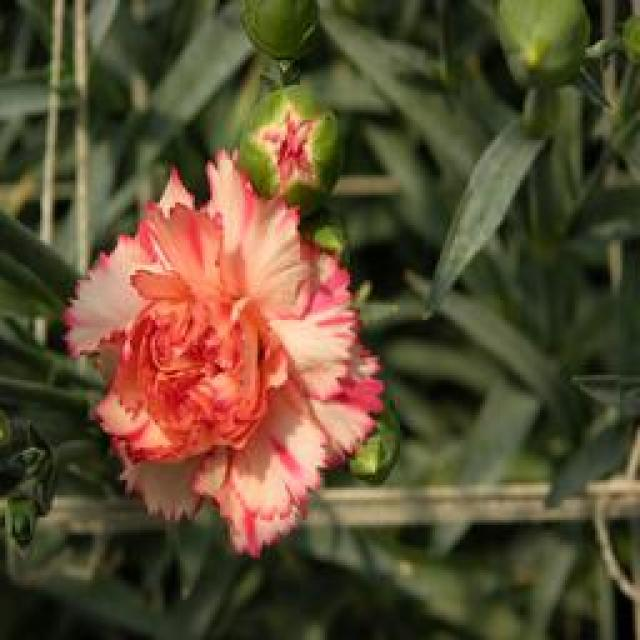carnation: (58, 158, 390, 552)
